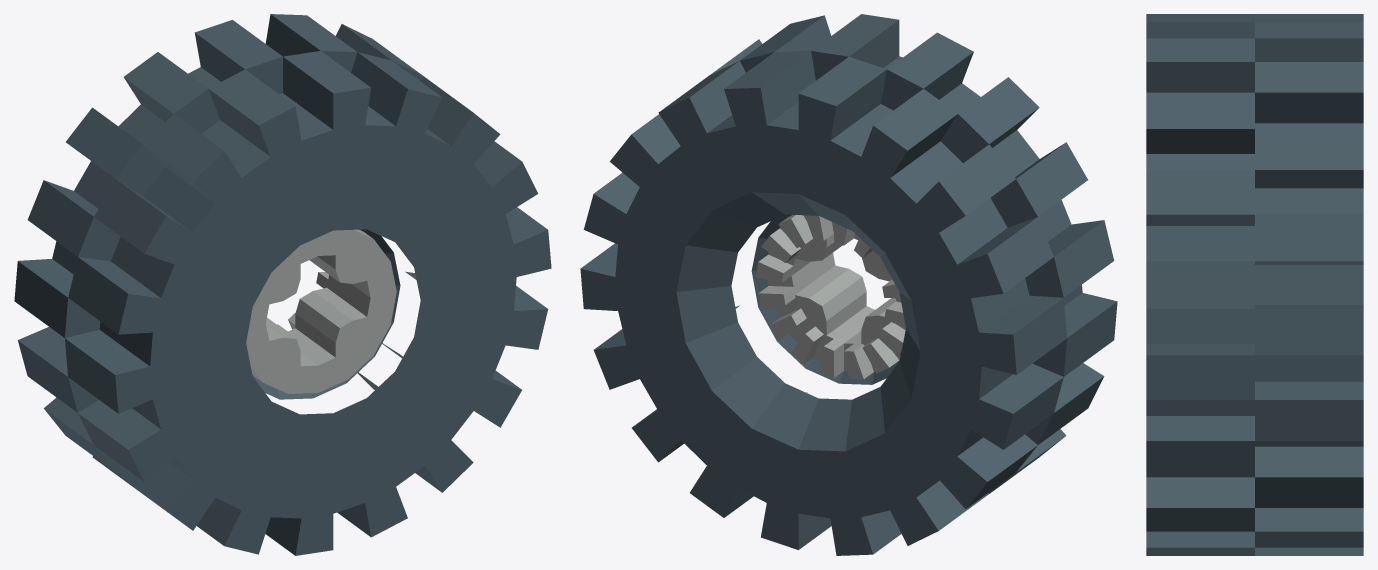
3 renders of one model, left to right at view 1: azimuth 30°, elevation 25°; view 2: azimuth 150°, elevation 25°; view 3: azimuth 270°, elevation 25°, orthographic. The views are drawn at different scales.
Visible parts, largest first — view 1: world; view 2: world; view 3: world.
Boxes of the visible parts, left/top/right/bottom form: world: left=14, top=14, right=551, bottom=555; world: left=580, top=14, right=1117, bottom=555; world: left=1146, top=14, right=1363, bottom=555.
Bounding box in the file's own units: 0.02 × 0.02 × 0.008.
